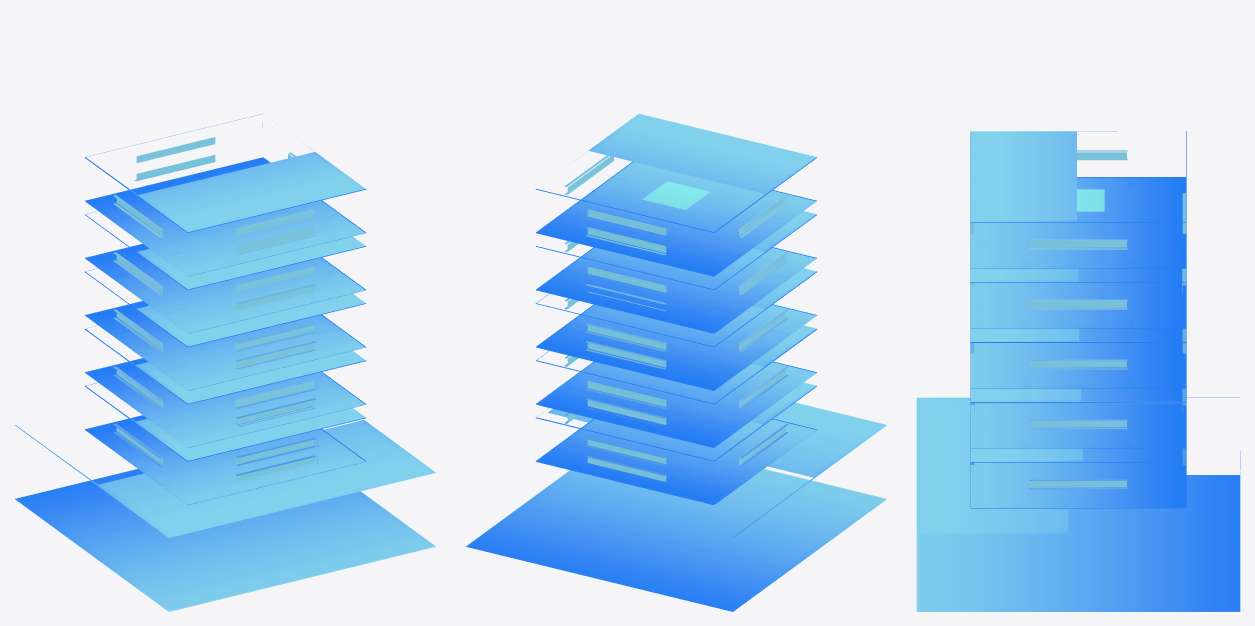
The model's file is server.fbx.
3 renders of one model, left to right at view 1: azimuth 30°, elevation 25°; view 2: azimuth 150°, elevation 25°; view 3: azimuth 270°, elevation 25°, orthographic. The views are drawn at different scales.
Parts seen in each view (by area): view 1: 空白; view 2: 空白; view 3: 空白.
Boxes of the visible parts, <box> form: 空白: <box>15,114,435,611</box>; 空白: <box>466,114,886,611</box>; 空白: <box>916,131,1240,611</box>.
Size of the model in its own units: 57 by 100 by 57.
